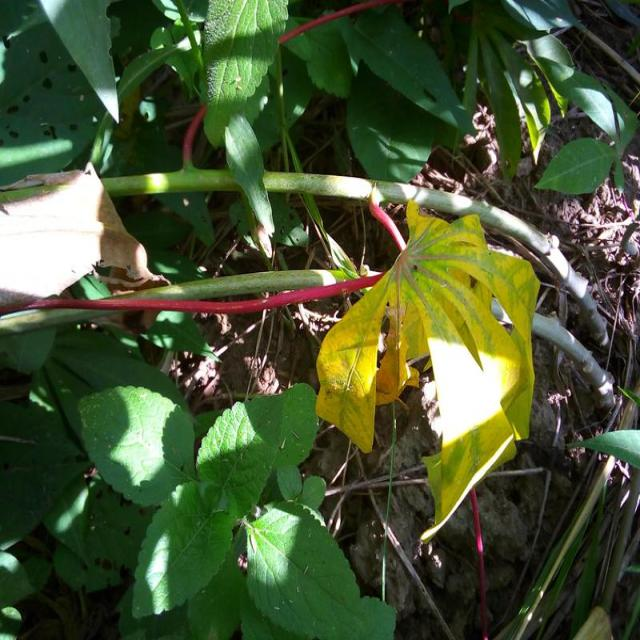Maleza: (52, 365, 302, 640)
Mosaico: (306, 187, 548, 503)
